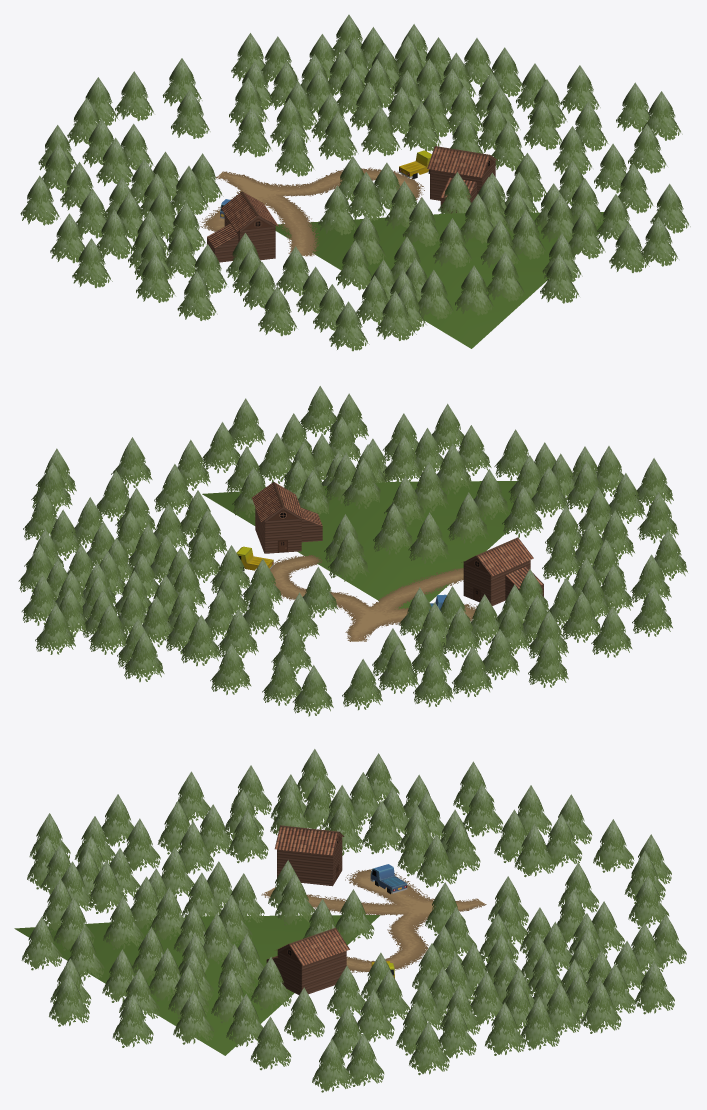
The model's file is SM_ForestTile.fbx.
The picture shows the model from 3 angles, top to bottom: view 1: azimuth 30°, elevation 25°; view 2: azimuth 150°, elevation 25°; view 3: azimuth 270°, elevation 25°; orthographic projection. The views are drawn at different scales.
Parts seen in each view (by area): view 1: SM_Trees.001, SM_Hill.001, SM_Path.001, SM_House.002, SM_House.003, SM_TruckYellow.001; view 2: SM_Trees.001, SM_Hill.001, SM_Path.001, SM_House.003, SM_House.002; view 3: SM_Trees.001, SM_Hill.001, SM_Path.001, SM_House.003, SM_House.002, SM_TruckBlue.001.
Boxes of the visible parts, box(x1,y1,x2,y2) form: SM_Trees.001: box(20, 14, 690, 351); SM_Hill.001: box(275, 212, 607, 348); SM_Path.001: box(200, 167, 424, 256); SM_House.002: box(207, 191, 278, 262); SM_House.003: box(427, 146, 497, 213); SM_TruckYellow.001: box(399, 150, 431, 179); SM_Trees.001: box(18, 386, 687, 716); SM_Hill.001: box(202, 481, 531, 609); SM_Path.001: box(270, 554, 477, 641); SM_House.003: box(252, 482, 322, 553); SM_House.002: box(461, 537, 543, 605); SM_Trees.001: box(21, 749, 686, 1092); SM_Hill.001: box(14, 915, 380, 1055); SM_Path.001: box(261, 869, 486, 972); SM_House.003: box(266, 927, 349, 994); SM_House.002: box(274, 825, 344, 886); SM_TruckBlue.001: box(370, 864, 407, 894).
Size of the model in its own units: 94.24 by 11.62 by 86.73.
